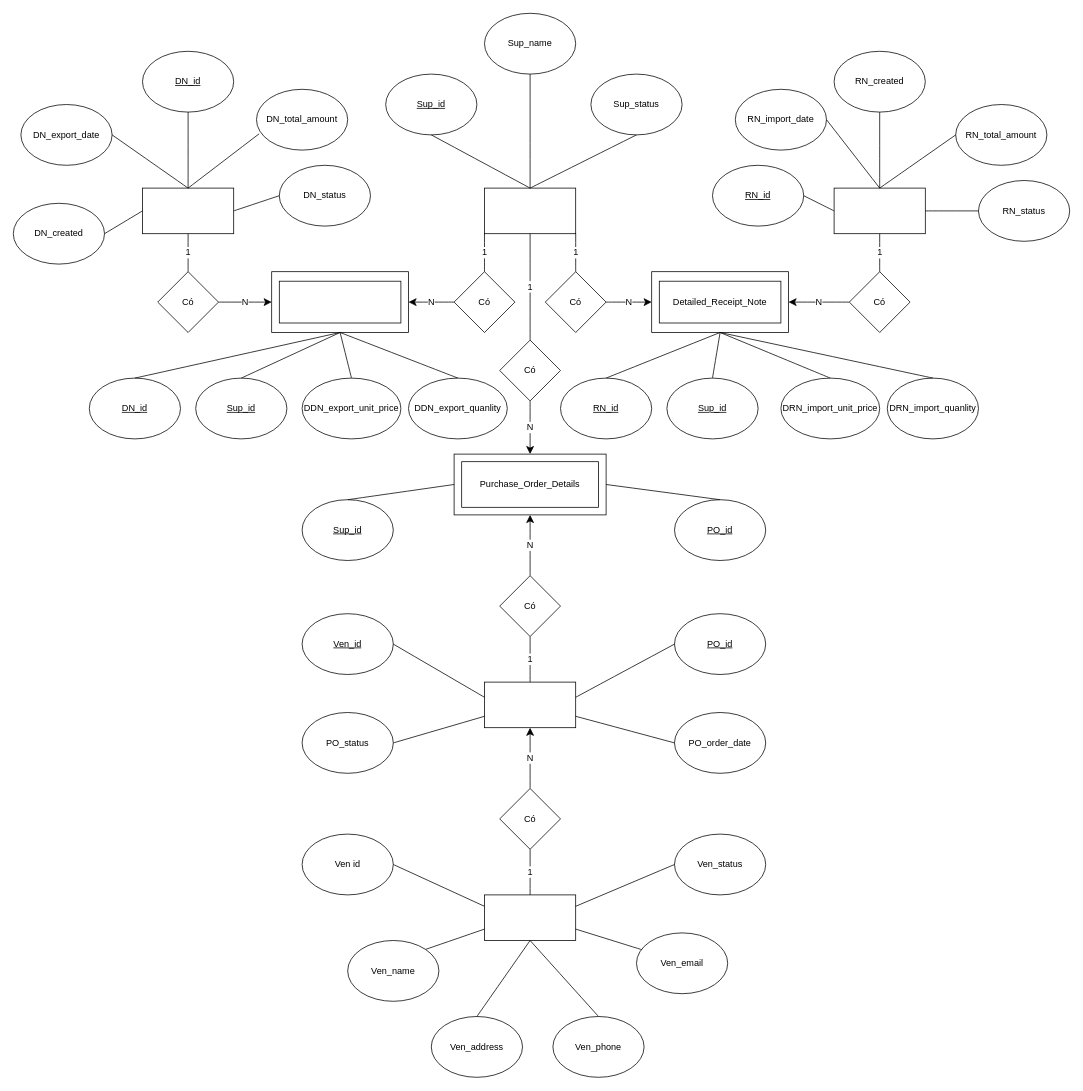
Image size: 1083x1091. Some labels were removed from this diagram. The shapes that lost their labels are listed below. From the top down, each one's centre as x and y in pixels, then its label:
At (188,210): "Delivery_Note".
At (530,210): "Supplies".
At (879,210): "Receipt_Note".
At (340,301): "Detailed_Delivery_Note".
At (530,704): "Purchase_Order".
At (530,917): "Vendor".
